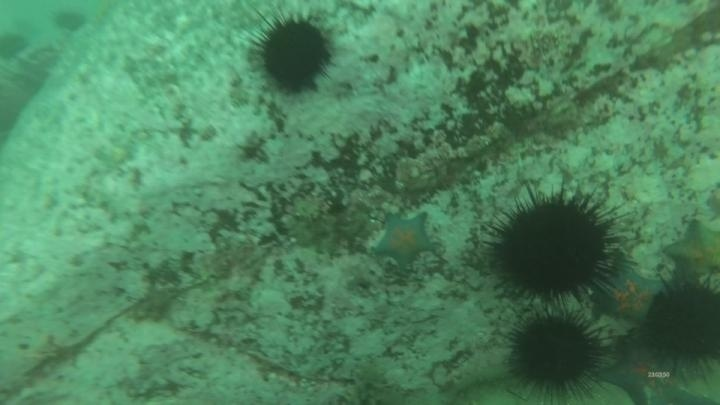echinus: (484, 183, 630, 314), (503, 308, 608, 400), (642, 278, 720, 374), (251, 13, 336, 96), (51, 8, 89, 35), (1, 30, 30, 62)
holothurian: (343, 357, 396, 405)
starfish: (599, 338, 692, 401), (593, 266, 666, 326), (371, 210, 438, 271), (663, 217, 720, 282)
